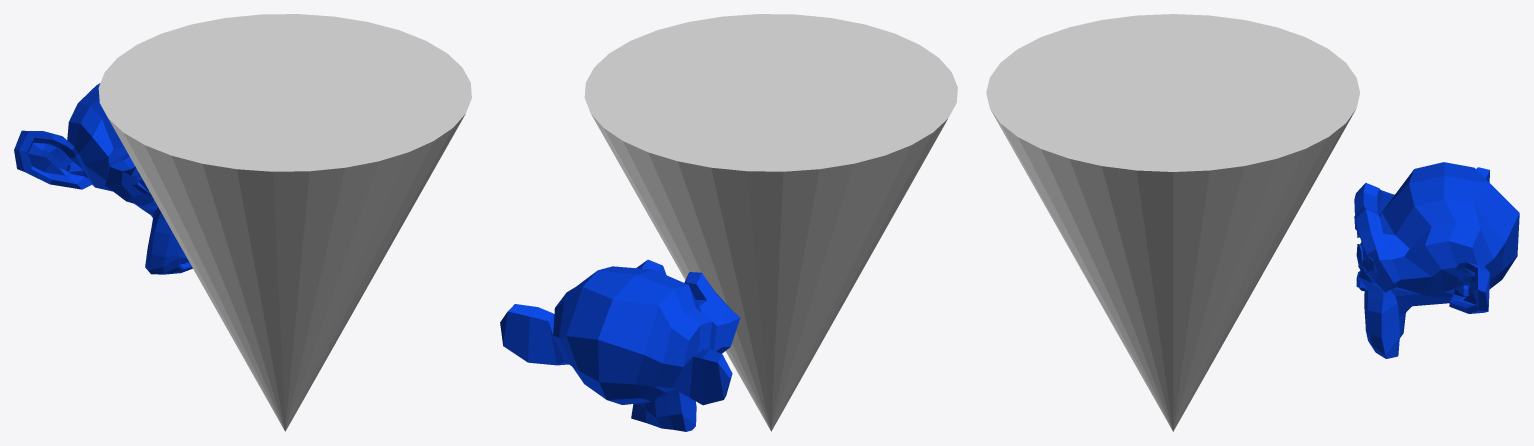
The picture shows the model from 3 angles, left to right: view 1: azimuth 30°, elevation 25°; view 2: azimuth 150°, elevation 25°; view 3: azimuth 270°, elevation 25°; orthographic projection.
Parts seen in each view (by area): view 1: mirror, Suzanne; view 2: mirror, Suzanne; view 3: mirror, Suzanne.
Part boxes in pixels (box(x1,y1,x2,y2)): mirror: box(98, 14, 471, 431); Suzanne: box(14, 83, 192, 274); mirror: box(584, 14, 957, 431); Suzanne: box(500, 259, 740, 431); mirror: box(986, 14, 1359, 431); Suzanne: box(1354, 162, 1519, 358).
Size of the model in its own units: 3.85 by 3.85 by 5.49.
